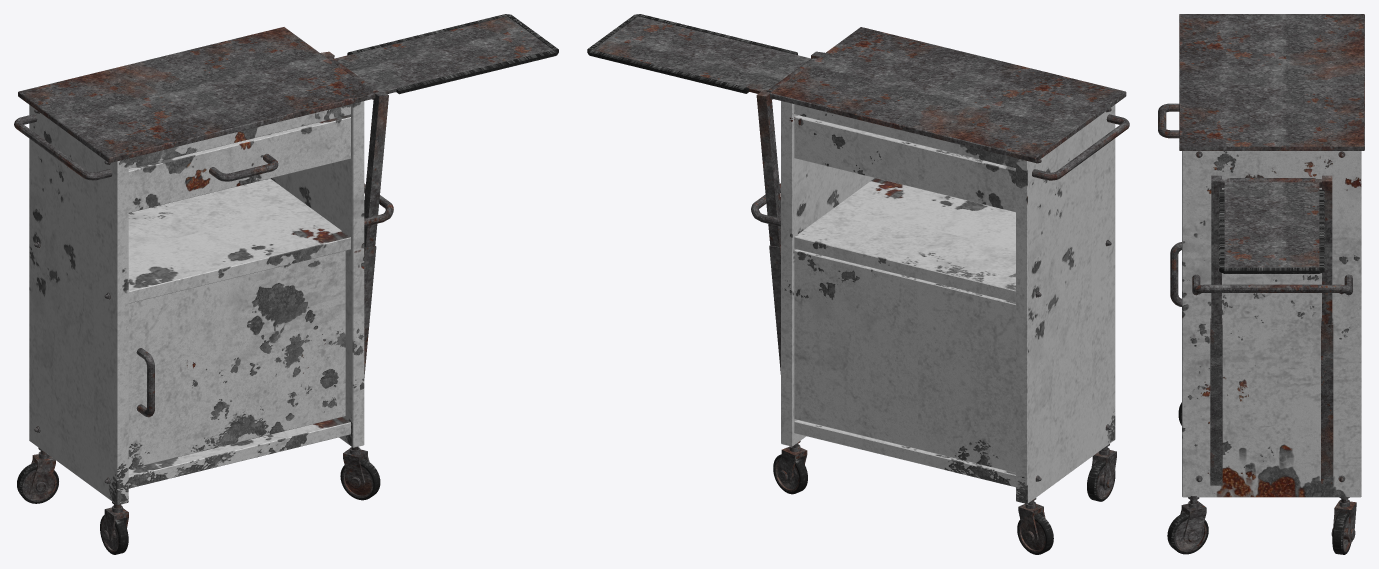
File: tdc-dtr-sideboard.glb
3 views of the same model, side by side, from view 1: azimuth 30°, elevation 25°; view 2: azimuth 150°, elevation 25°; view 3: azimuth 270°, elevation 25° (orthographic).
Parts seen in each view (by area): view 1: tdc-dtr-sideboard; view 2: tdc-dtr-sideboard; view 3: tdc-dtr-sideboard.
Boxes of the visible parts, x1=… form: tdc-dtr-sideboard: x1=14, y1=14, x2=558, y2=554; tdc-dtr-sideboard: x1=587, y1=14, x2=1129, y2=554; tdc-dtr-sideboard: x1=1158, y1=14, x2=1364, y2=554.
Size of the model in its own units: 0.5245 by 0.4182 by 0.1902.
Materials: 3 (3 with a texture image).
